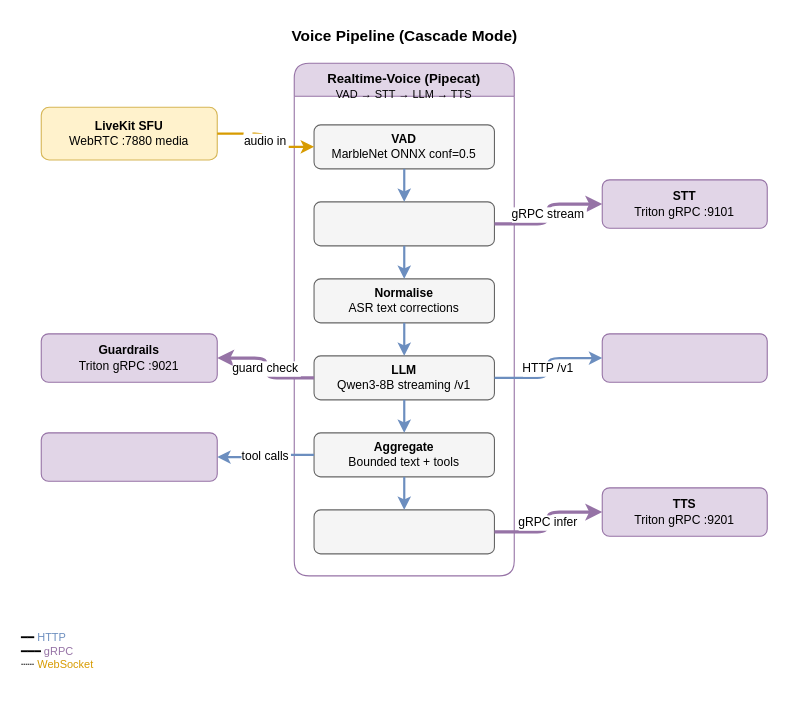
Some shapes in this 787 by 708 pixel diagram are drawn without their labels. Each missing label, with the centre of its shape:
API tools + conversations: (x=128, y=456)
LLM vLLM HTTP :9000/v1: (x=684, y=357)
STT Nemotron streaming gRPC: (x=403, y=223)
TTS Chatterbox synthesis: (x=403, y=531)
